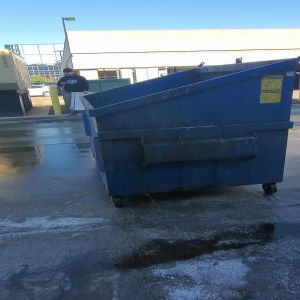Dumpster: (82, 58, 300, 208)
Person: (57, 67, 89, 93)
